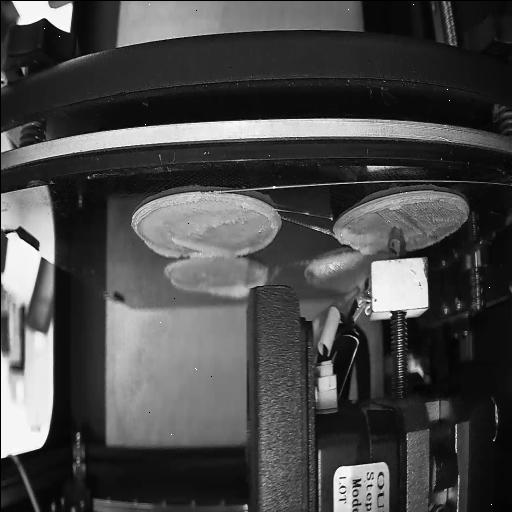over_extrusion: (236, 204, 278, 256), (144, 236, 230, 260), (342, 233, 384, 253), (210, 284, 249, 299)
